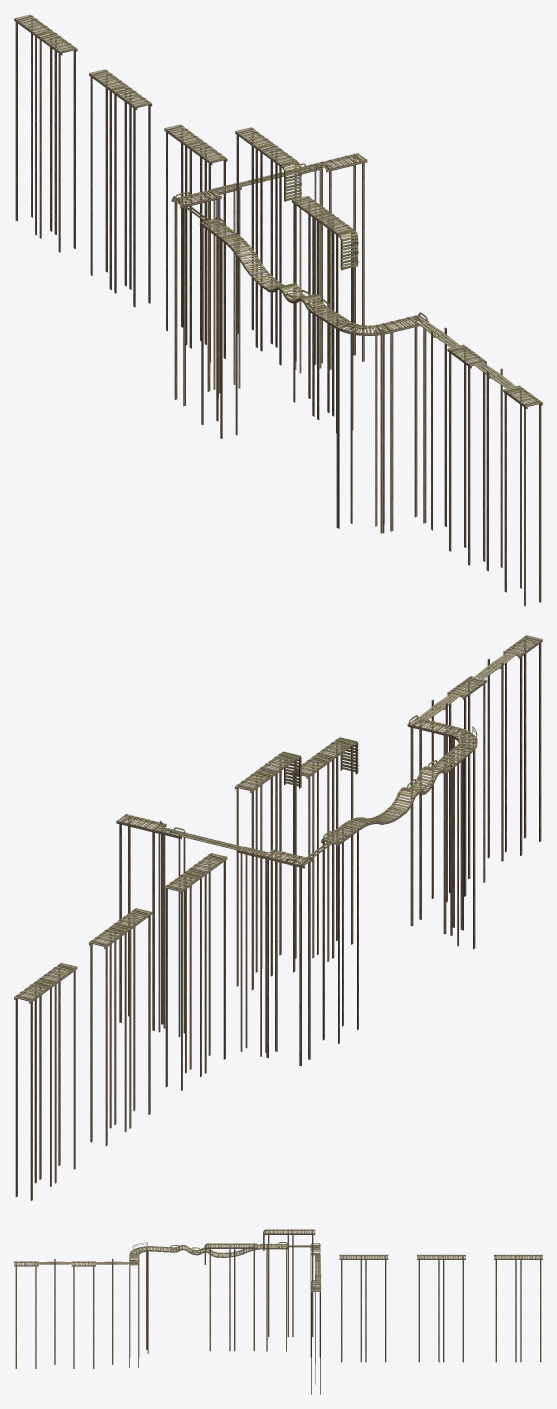
3 views of the same model, one above another, from view 1: azimuth 30°, elevation 25°; view 2: azimuth 150°, elevation 25°; view 3: azimuth 270°, elevation 25° (orthographic). The views are drawn at different scales.
Visible parts, largest first — view 1: ramp_009__5_, Ramp_001__16_, Ramp_001__28_, Ramp_001__30_, Ramp_001__20_, Ramp_001__17_, Ramp_001__29_, Ramp_001__15_, Ramp_001__24_, Ramp_001__25_, Ramp_001__23_, Ramp_001__32_ (+10 smaller); view 2: Ramp_001__16_, Ramp_001__20_, Ramp_001__29_, Ramp_001__26_, Ramp_001__28_, Ramp_001__30_, Ramp_001__25_, Ramp_001__18_, ramp_009__5_, Ramp_001__31_, Ramp_001__32_, Ramp_001__17_ (+10 smaller); view 3: ramp_009__5_, Ramp_001__22_, Ramp_001__23_, Ramp_001__24_, Ramp_001__32_, Ramp_001__17_, Ramp_001__30_, Ramp_001__28_, Ramp_001__26_, Ramp_001__27_, Ramp_001__29_, Ramp_001__31_ (+6 smaller).
Boxes of the visible parts, left/top/right/bottom form: ramp_009__5_: left=334, top=321, right=387, bottom=533; Ramp_001__16_: left=379, top=315, right=429, bottom=531; Ramp_001__28_: left=112, top=86, right=152, bottom=307; Ramp_001__30_: left=38, top=32, right=77, bottom=252; Ramp_001__20_: left=171, top=189, right=221, bottom=405; Ramp_001__17_: left=447, top=344, right=486, bottom=565; Ramp_001__29_: left=89, top=69, right=128, bottom=289; Ramp_001__15_: left=199, top=218, right=239, bottom=438; Ramp_001__24_: left=291, top=195, right=330, bottom=416; Ramp_001__25_: left=235, top=127, right=274, bottom=347; Ramp_001__23_: left=258, top=144, right=297, bottom=365; Ramp_001__32_: left=503, top=385, right=542, bottom=606; Ramp_001__16_: left=407, top=717, right=457, bottom=934; Ramp_001__20_: left=263, top=849, right=313, bottom=1066; Ramp_001__29_: left=89, top=925, right=128, bottom=1146; Ramp_001__26_: left=188, top=853, right=227, bottom=1073; Ramp_001__28_: left=112, top=908, right=152, bottom=1128; Ramp_001__30_: left=38, top=962, right=77, bottom=1183; Ramp_001__25_: left=235, top=769, right=274, bottom=990; Ramp_001__18_: left=116, top=814, right=166, bottom=1030; ramp_009__5_: left=448, top=727, right=477, bottom=949; Ramp_001__31_: left=14, top=980, right=53, bottom=1200; Ramp_001__32_: left=503, top=635, right=542, bottom=855; Ramp_001__17_: left=447, top=676, right=486, bottom=896; ramp_009__5_: left=129, top=1246, right=149, bottom=1357; Ramp_001__22_: left=207, top=1243, right=232, bottom=1350; Ramp_001__23_: left=266, top=1229, right=290, bottom=1336; Ramp_001__24_: left=232, top=1243, right=256, bottom=1350; Ramp_001__32_: left=14, top=1261, right=38, bottom=1368; Ramp_001__17_: left=71, top=1261, right=95, bottom=1368; Ramp_001__30_: left=494, top=1254, right=518, bottom=1362; Ramp_001__28_: left=417, top=1254, right=441, bottom=1362; Ramp_001__26_: left=339, top=1254, right=363, bottom=1362; Ramp_001__27_: left=363, top=1254, right=388, bottom=1362; Ramp_001__29_: left=441, top=1254, right=465, bottom=1362; Ramp_001__31_: left=518, top=1254, right=542, bottom=1362.
Bounding box in the file's own units: 2311 × 3047 × 10772.
